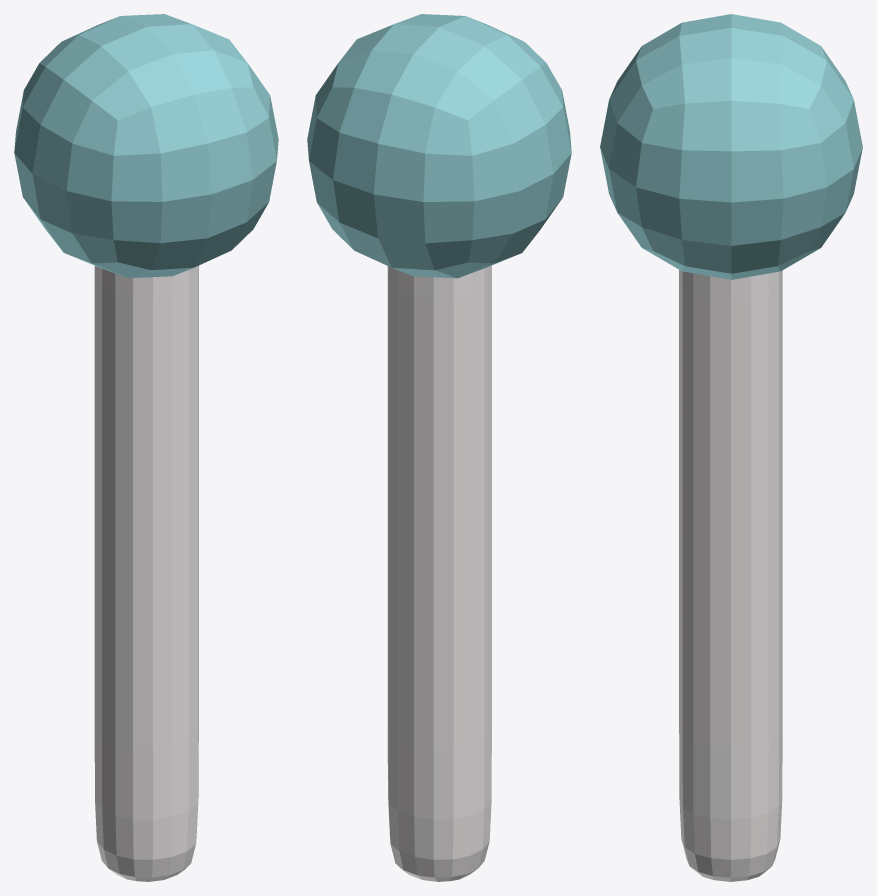
The model's file is kol2.fbx.
3 renders of one model, left to right at view 1: azimuth 30°, elevation 25°; view 2: azimuth 150°, elevation 25°; view 3: azimuth 270°, elevation 25°, orthographic.
Parts seen in each view (by area): view 1: Cube.009; view 2: Cube.009; view 3: Cube.009.
Boxes of the visible parts, x1=… form: Cube.009: x1=14, y1=14, x2=278, y2=881; Cube.009: x1=307, y1=14, x2=571, y2=881; Cube.009: x1=600, y1=14, x2=862, y2=881.
Bounding box in the file's own units: 113 × 400 × 113.
